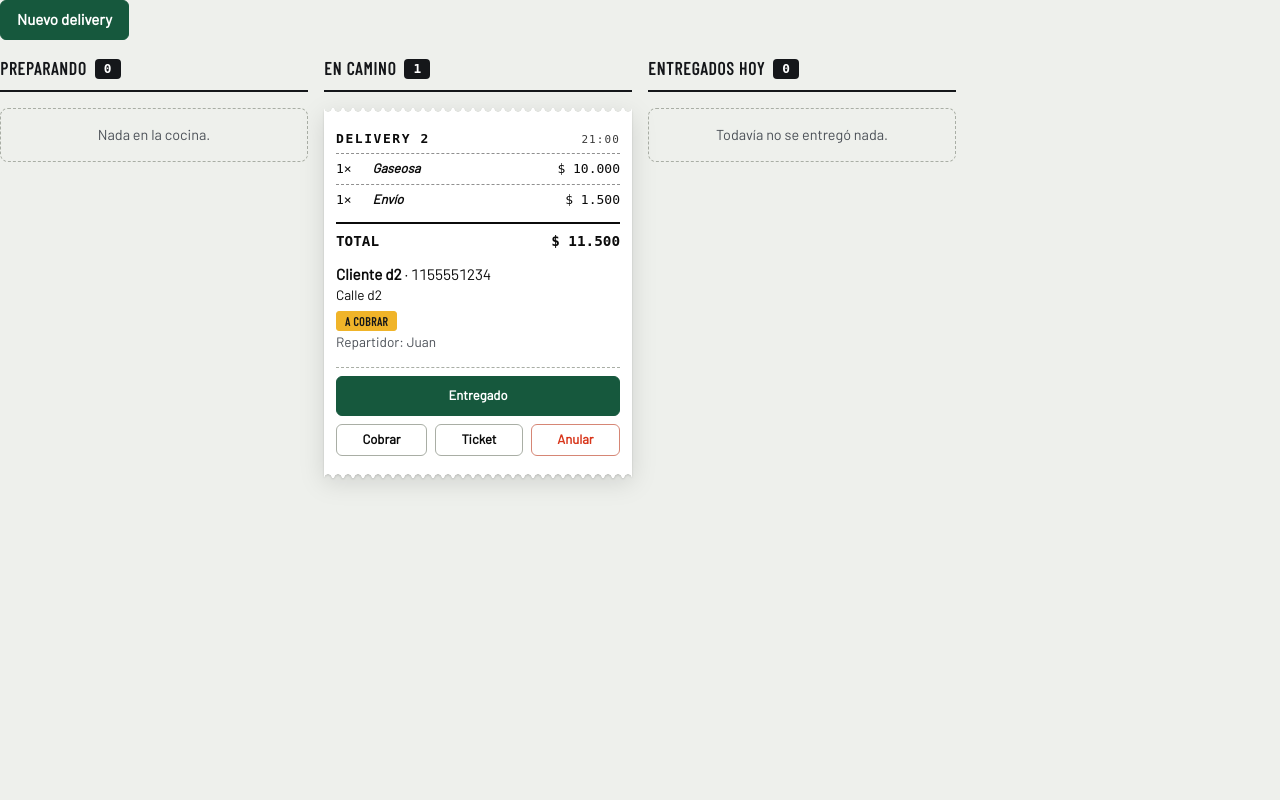
Test: "Entregado" sin cobrar abre el cobro con el envío y al cobrar lo entrega
Later steps or results of the test are not shown.
Click the button "Entregado". click: (478,396)
box: [336, 376, 620, 416]
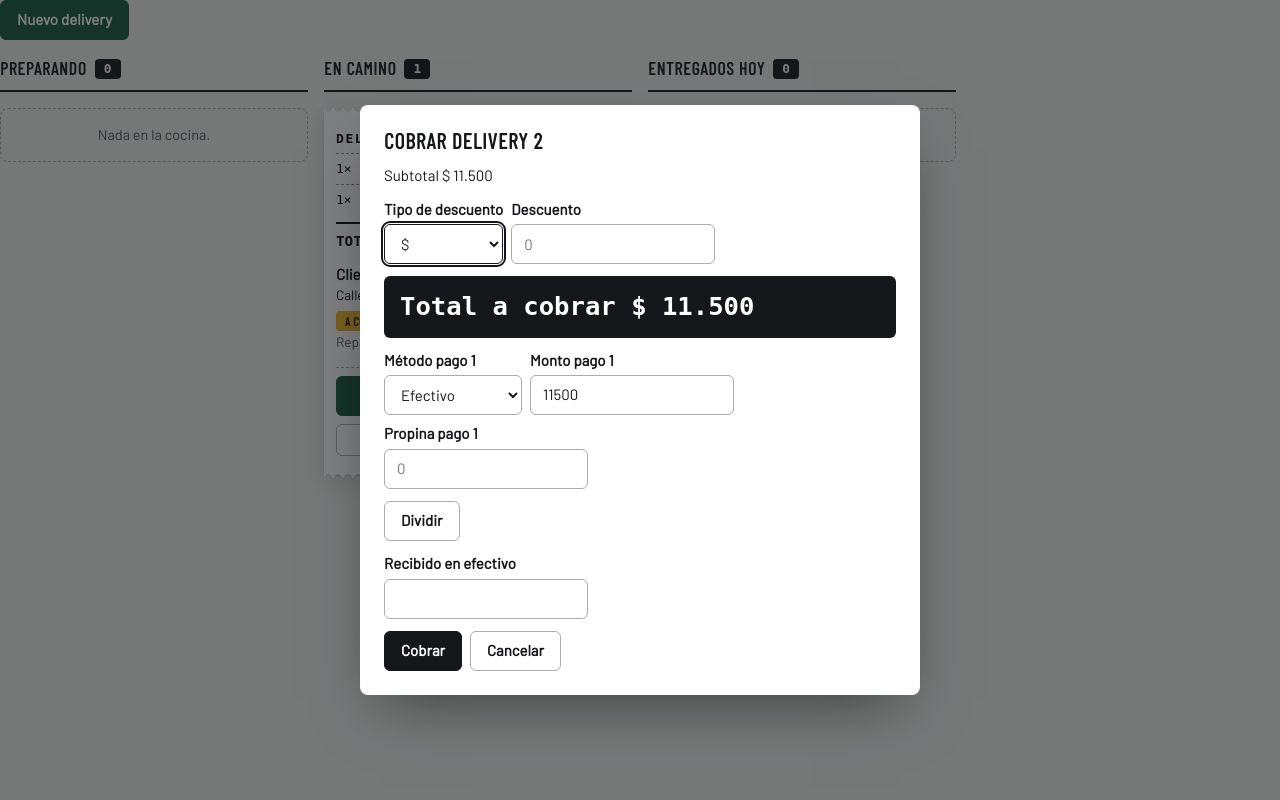
Expected: the dialog "Cobrar" shows "Subtotal $ 11.500", [360, 105, 920, 695]
